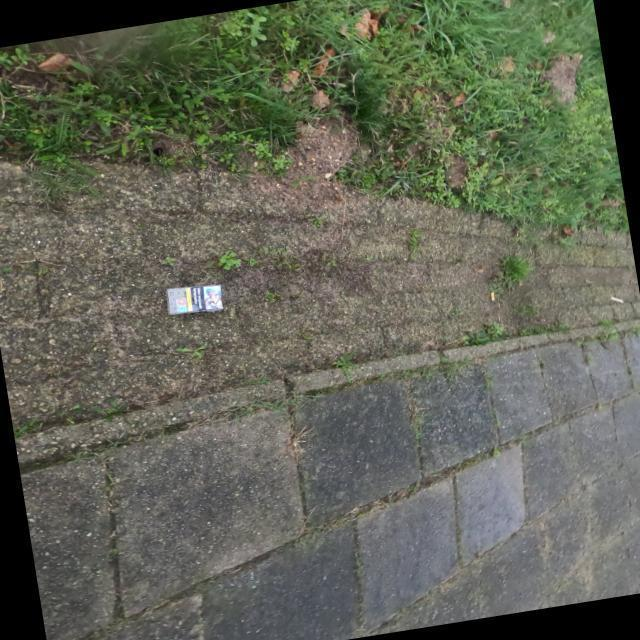Paper: (163, 282, 224, 318)
